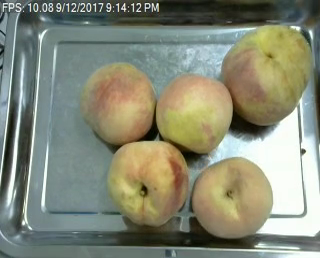Peach: (222, 22, 313, 126), (107, 139, 191, 227), (192, 157, 273, 238), (80, 61, 156, 146), (157, 72, 233, 152)
